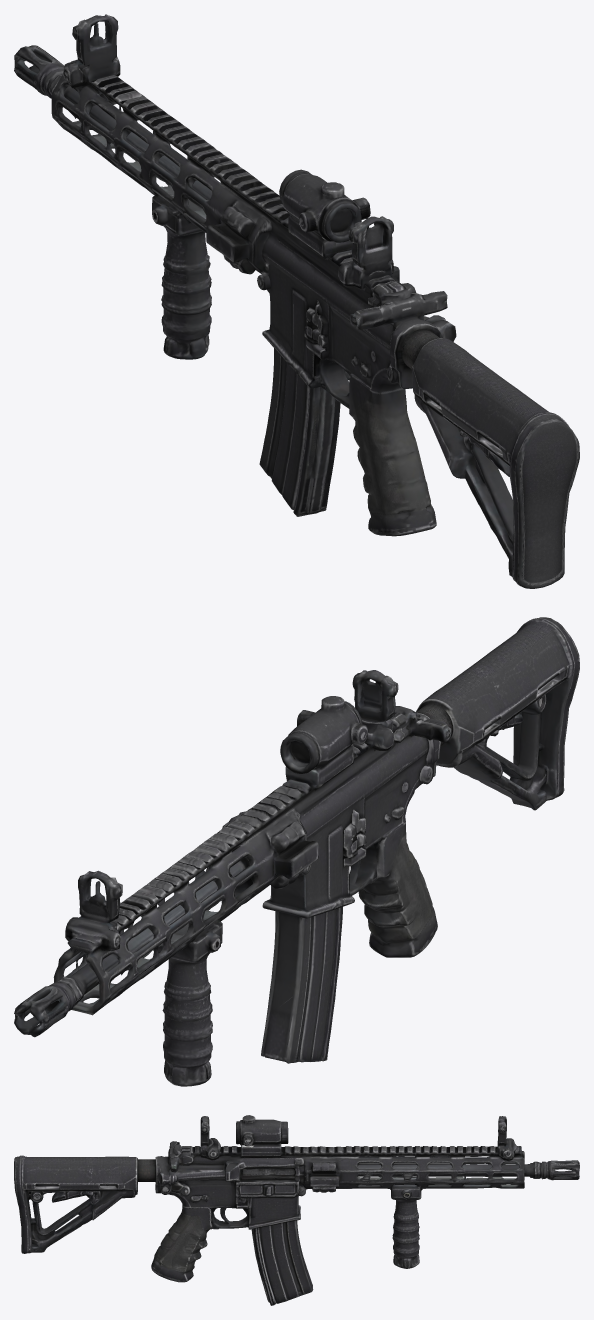
File: rifle.glb
3 views of the same model, one above another, from view 1: azimuth 30°, elevation 25°; view 2: azimuth 150°, elevation 25°; view 3: azimuth 270°, elevation 25° (orthographic). The views are drawn at different scales.
Visible parts, largest first — view 1: Body, Mag; view 2: Body, Mag; view 3: Body, Mag.
Boxes of the visible parts, x1,y1,x2,y2 form: Body: (14, 14, 579, 588); Mag: (259, 329, 340, 516); Body: (14, 617, 579, 1086); Mag: (261, 890, 349, 1063); Body: (14, 1115, 579, 1282); Mag: (254, 1205, 313, 1305).
Size of the model in its own units: 0.0898 by 0.3115 by 0.86.
Materials: 1 (1 with a texture image).
